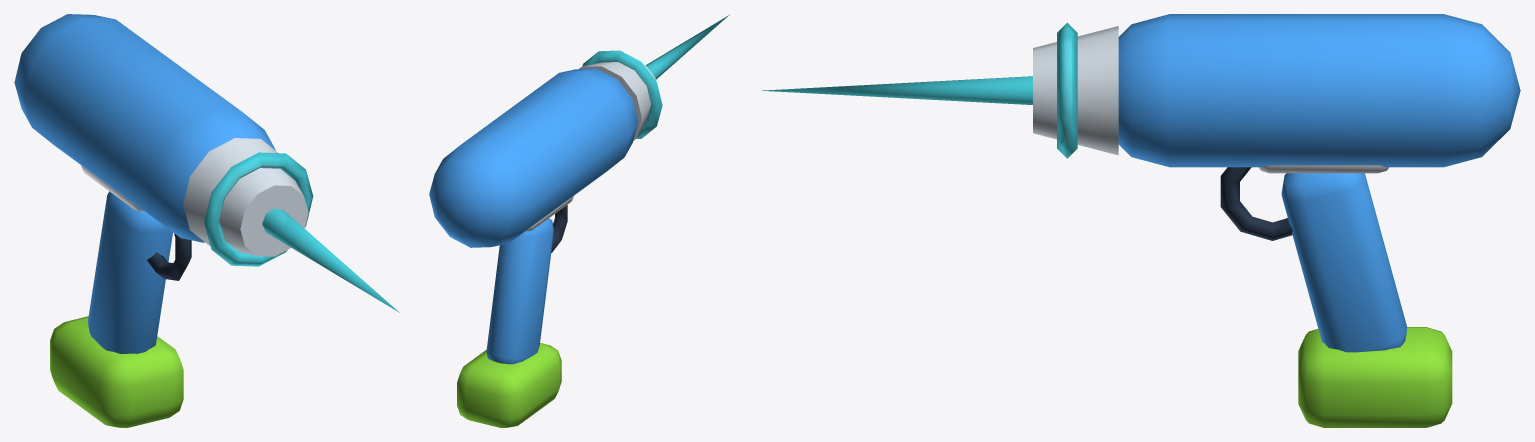
Rendered from Drill.fbx.
3 renders of one model, left to right at view 1: azimuth 30°, elevation 25°; view 2: azimuth 150°, elevation 25°; view 3: azimuth 270°, elevation 25°, orthographic. The views are drawn at different scales.
Parts seen in each view (by area): view 1: Drill; view 2: Drill; view 3: Drill.
Boxes of the visible parts, <box> form: Drill: <box>14,14,399,427</box>; Drill: <box>429,14,729,427</box>; Drill: <box>762,14,1520,427</box>.
Bounding box in the file's own units: 0.09 × 0.255 × 0.445.
